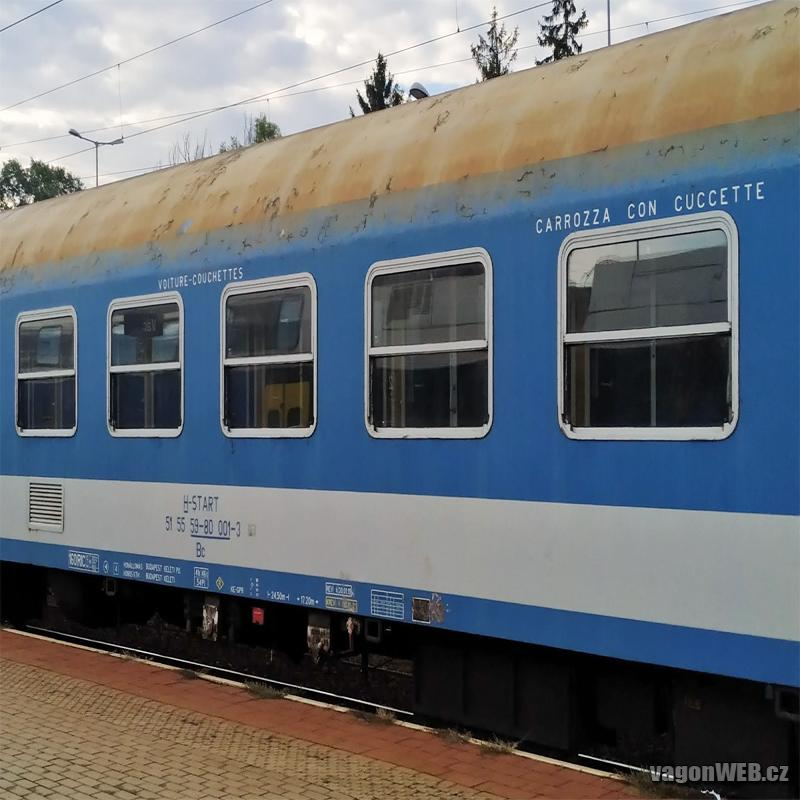train: (1, 1, 800, 759)
